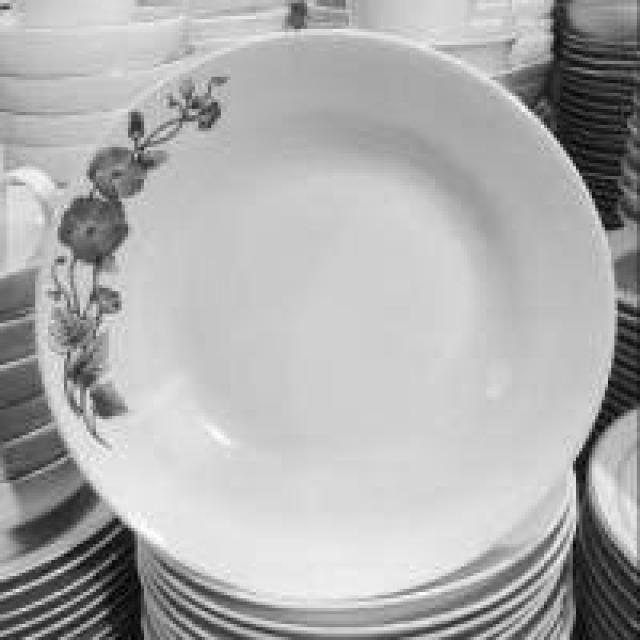dish: (42, 7, 626, 618)
